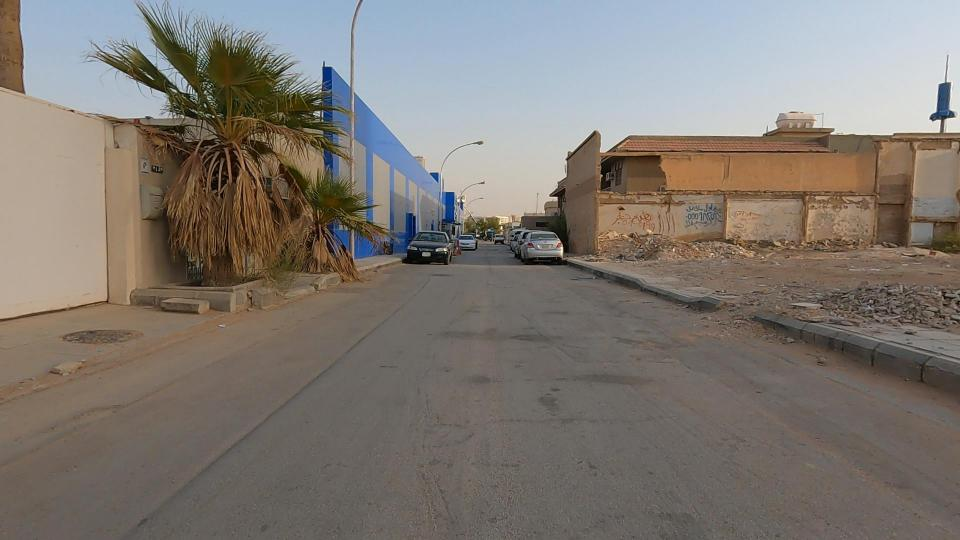GARBAGE: (758, 254, 957, 346)
SAND_ON_ROAD: (573, 217, 719, 294)
